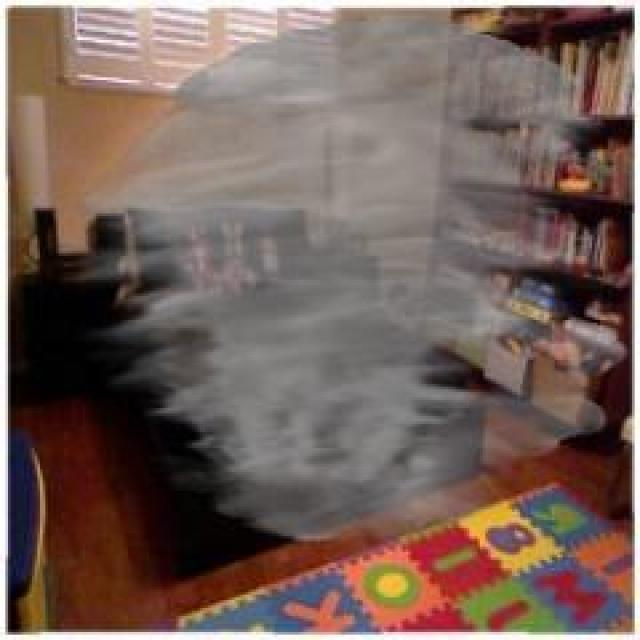Smoke: (71, 15, 628, 542)
